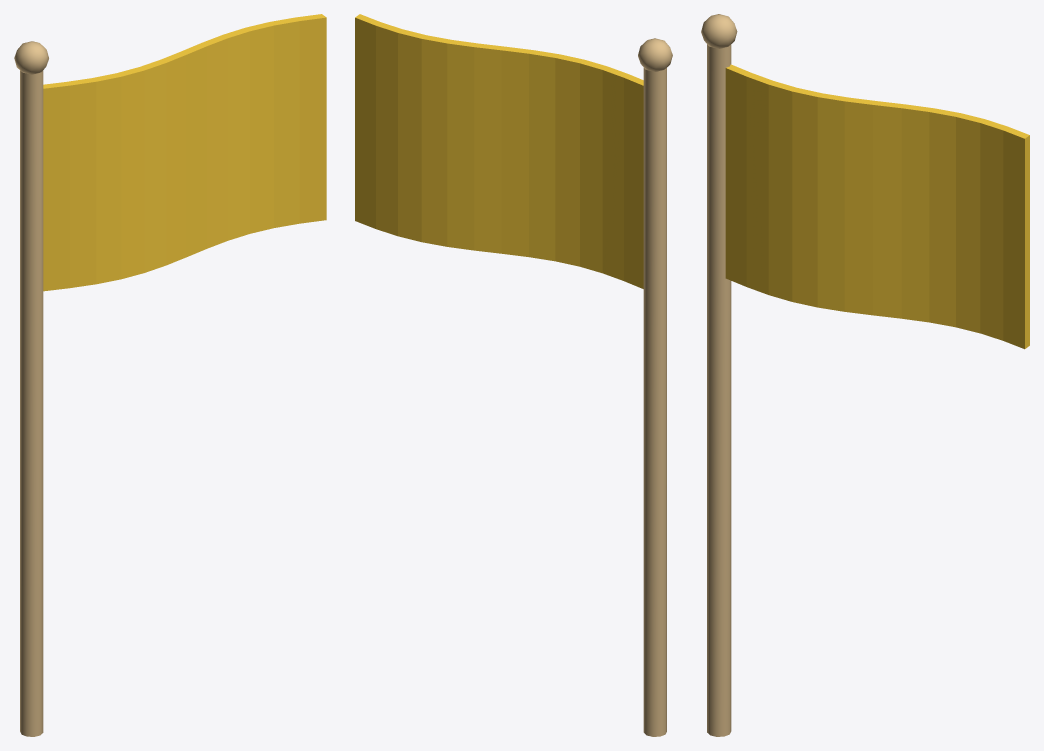
Rendered from EatsaPizzaFlag.obj.
3 views of the same model, side by side, from view 1: azimuth 30°, elevation 25°; view 2: azimuth 150°, elevation 25°; view 3: azimuth 330°, elevation 25° (orthographic). The views are drawn at different scales.
Parts seen in each view (by area): view 1: Flag, Pick; view 2: Flag, Pick; view 3: Flag, Pick.
Part boxes in pixels (bbox=[...]): Flag: bbox=[43, 14, 326, 291]; Pick: bbox=[14, 41, 48, 736]; Flag: bbox=[355, 14, 643, 288]; Pick: bbox=[638, 38, 672, 736]; Flag: bbox=[725, 64, 1029, 349]; Pick: bbox=[701, 14, 737, 736].
Bounding box in the file's own units: 3.68 × 7.83 × 0.3962.
